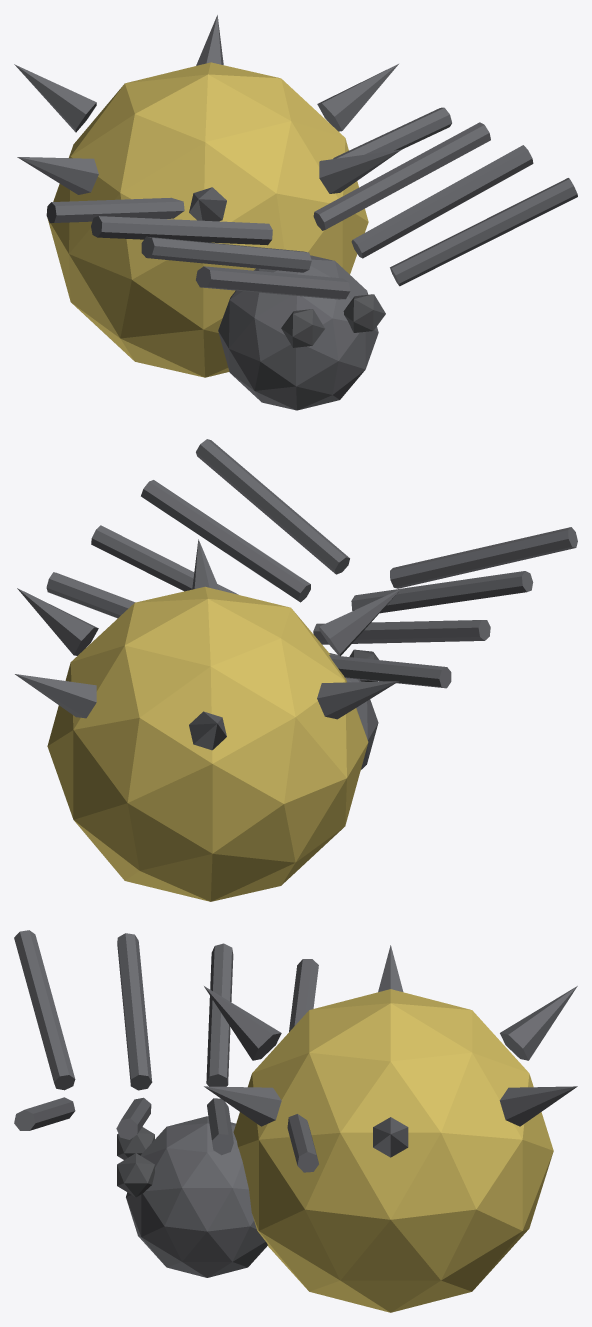
File: gasteracantha-mediofusca.glb
The picture shows the model from 3 angles, top to bottom: view 1: azimuth 30°, elevation 25°; view 2: azimuth 150°, elevation 25°; view 3: azimuth 270°, elevation 25°; orthographic projection.
Visible parts, largest first — view 1: abdomen, cephalothorax, leg01, leg11, leg21, leg2-1, leg1-1, leg0-1, leg3-1, leg31, spike3, spike0 (+6 smaller); view 2: abdomen, leg0-1, leg11, leg01, leg1-1, leg2-1, leg21, leg3-1, leg31, spike3, spike0, spike2 (+4 smaller); view 3: abdomen, cephalothorax, leg0-1, leg1-1, leg2-1, spike2, spike4, spike1, spike5, leg3-1, leg01, eye1 (+6 smaller).
Part boxes in pixels (x1,y1,x2,y2): abdomen: [47, 62, 368, 377]; cephalothorax: [218, 255, 378, 410]; leg01: [390, 178, 577, 286]; leg11: [351, 145, 533, 258]; leg21: [313, 122, 490, 230]; leg2-1: [91, 216, 272, 245]; leg1-1: [141, 236, 311, 272]; leg0-1: [196, 266, 350, 299]; leg3-1: [46, 197, 184, 223]; leg31: [333, 107, 451, 158]; spike3: [17, 157, 98, 194]; spike0: [317, 64, 398, 131]; abdomen: [47, 586, 368, 901]; leg0-1: [390, 527, 577, 588]; leg11: [141, 480, 310, 602]; leg01: [196, 439, 349, 574]; leg1-1: [351, 571, 533, 613]; leg2-1: [313, 620, 490, 644]; leg21: [91, 525, 238, 594]; leg3-1: [329, 655, 451, 688]; leg31: [46, 572, 135, 618]; spike3: [317, 681, 398, 719]; spike0: [17, 588, 98, 655]; spike2: [319, 588, 401, 656]; abdomen: [233, 989, 553, 1312]; cephalothorax: [126, 1116, 267, 1277]; leg0-1: [14, 930, 75, 1090]; leg1-1: [117, 933, 152, 1090]; leg2-1: [206, 943, 233, 1086]; spike2: [204, 986, 281, 1060]; spike4: [500, 986, 577, 1060]; spike1: [204, 1086, 281, 1126]; spike5: [499, 1086, 577, 1126]; leg3-1: [289, 959, 318, 1031]; leg01: [14, 1097, 75, 1130]; eye1: [117, 1153, 154, 1197].
Bounding box in the file's own units: 0.4572 × 0.32 × 0.5535.
